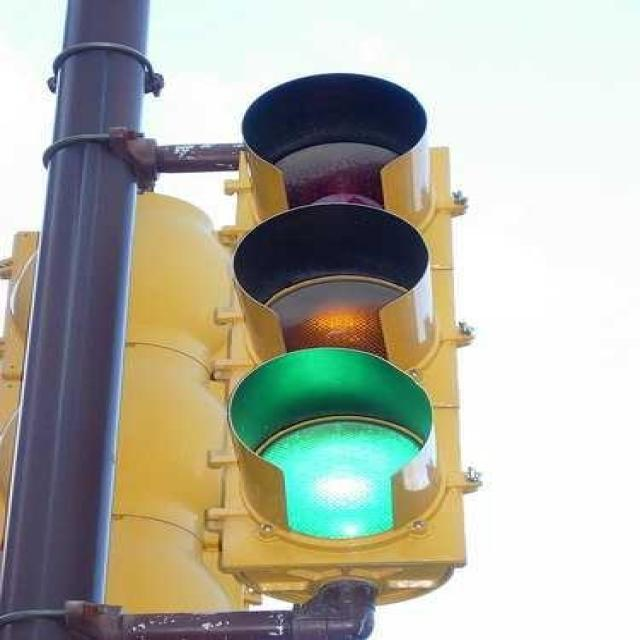Traffic Light -Green-: (213, 67, 472, 583)
